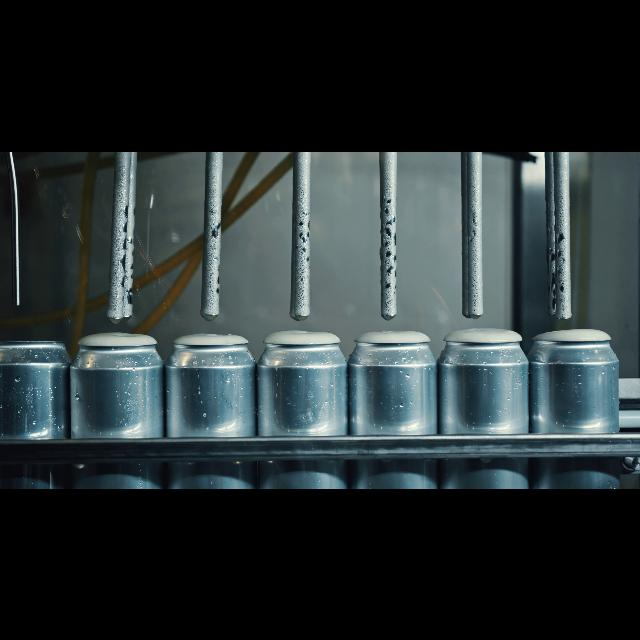empty: (0, 329, 74, 488)
full: (344, 328, 441, 488), (257, 324, 345, 488), (532, 328, 622, 488), (166, 322, 252, 488), (76, 332, 166, 488), (441, 326, 527, 488)
